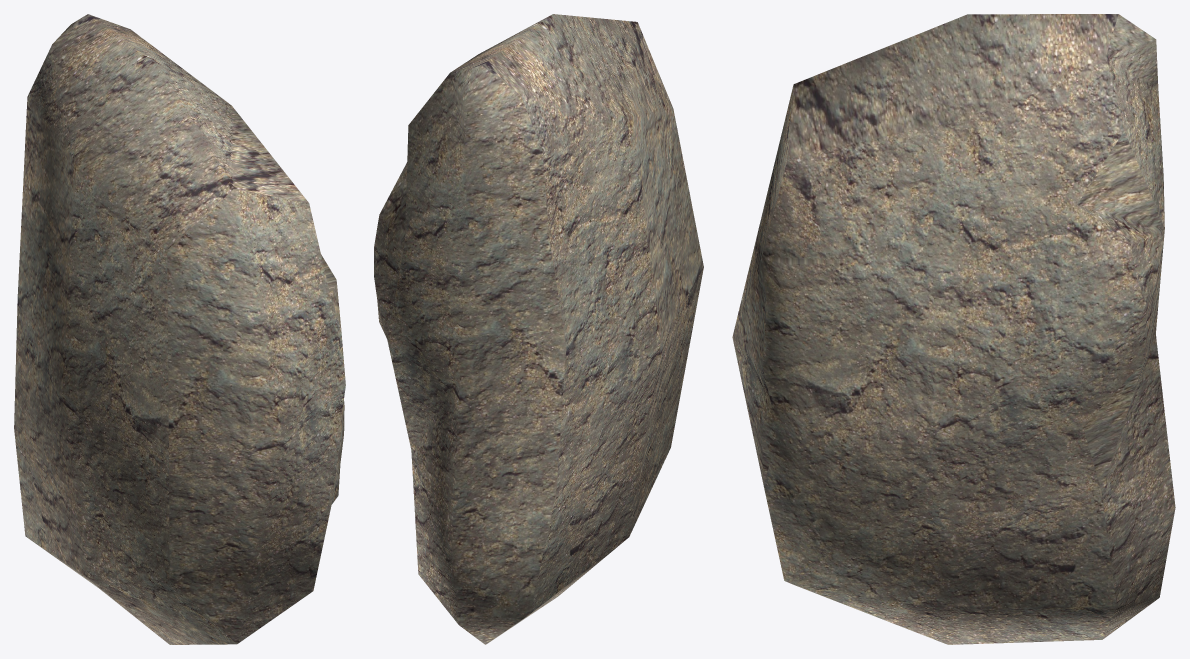
Rendered from CliffRock.fbx.
3 views of the same model, side by side, from view 1: azimuth 30°, elevation 25°; view 2: azimuth 150°, elevation 25°; view 3: azimuth 270°, elevation 25° (orthographic). The views are drawn at different scales.
Parts seen in each view (by area): view 1: pasted__pasted__pCube2; view 2: pasted__pasted__pCube2; view 3: pasted__pasted__pCube2.
Part boxes in pixels (box(x1,y1,x2,y2)): pasted__pasted__pCube2: box(14, 14, 345, 644); pasted__pasted__pCube2: box(374, 14, 703, 644); pasted__pasted__pCube2: box(732, 14, 1175, 644).
Bounding box in the file's own units: 11.16 × 26.53 × 16.94.
1 material, 1 textured.
